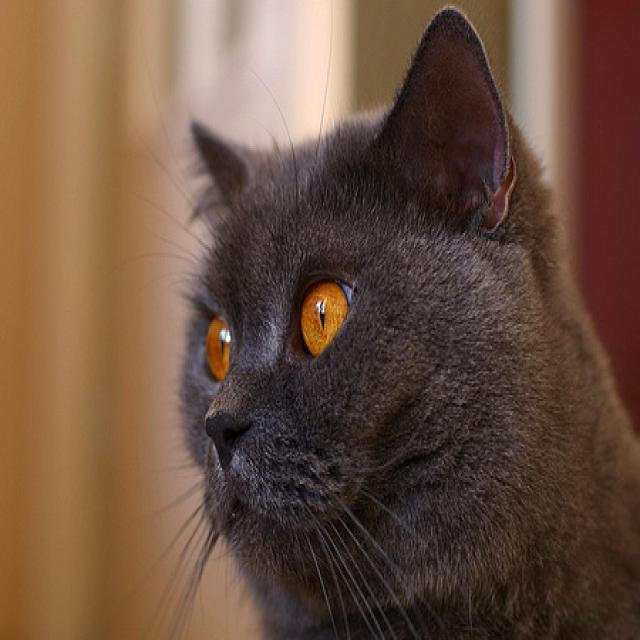British Shorthair: (169, 0, 640, 640)
